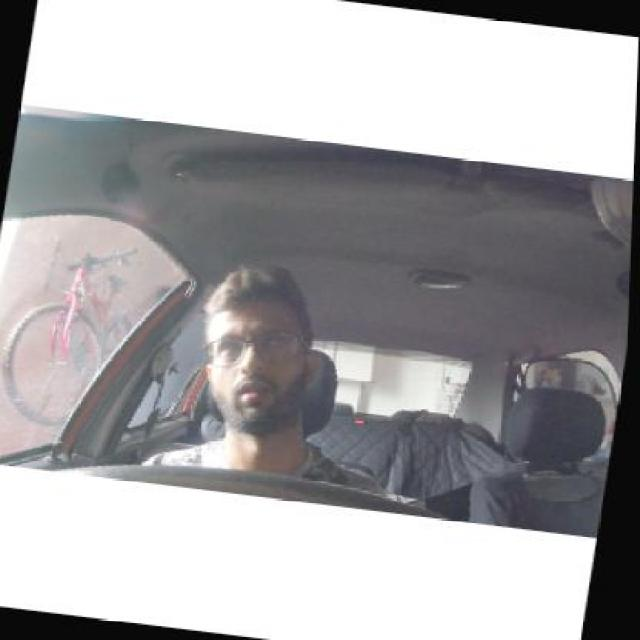person: (197, 258, 323, 442)
